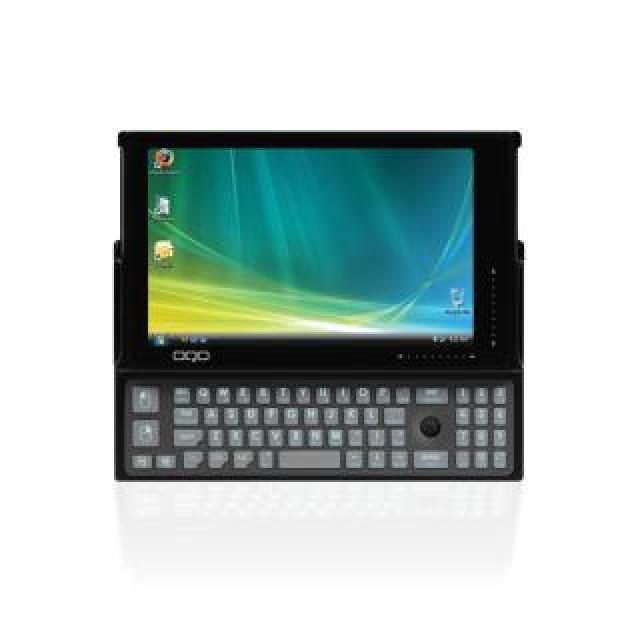laptop_computer: (103, 111, 551, 525)
